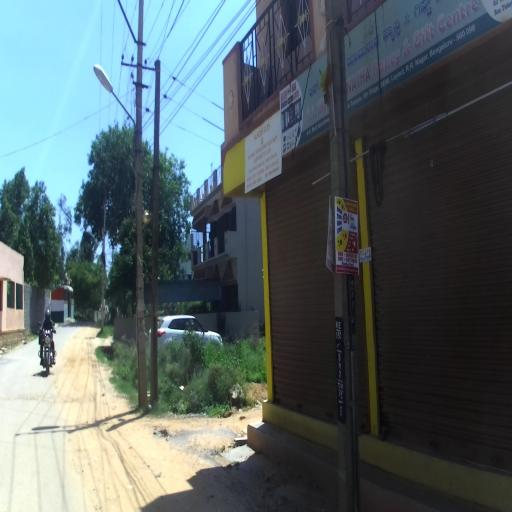street_light_0: (93, 64, 142, 156), (89, 230, 104, 253)
